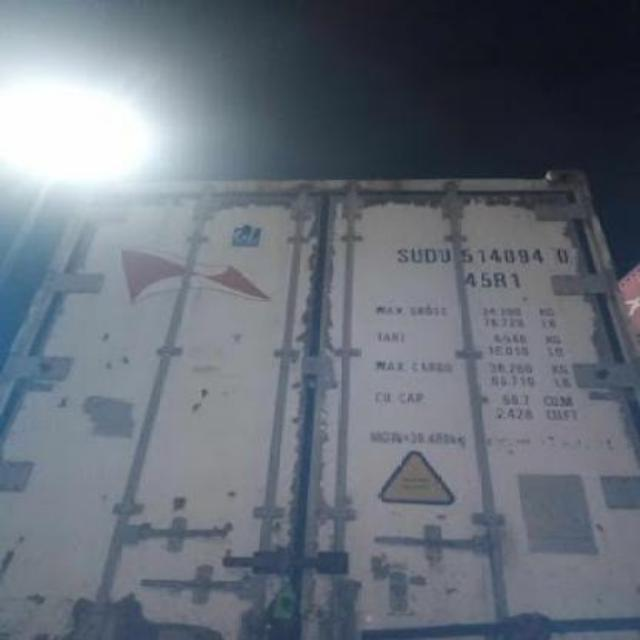0: (554, 242, 570, 268), (502, 242, 516, 264)
1: (476, 242, 488, 264)
4: (530, 239, 546, 265), (486, 240, 499, 264)
5: (461, 244, 474, 266)
9: (516, 241, 530, 267)
D: (422, 241, 438, 267)
S: (396, 240, 408, 266)
U: (438, 242, 452, 270), (408, 242, 422, 266)
